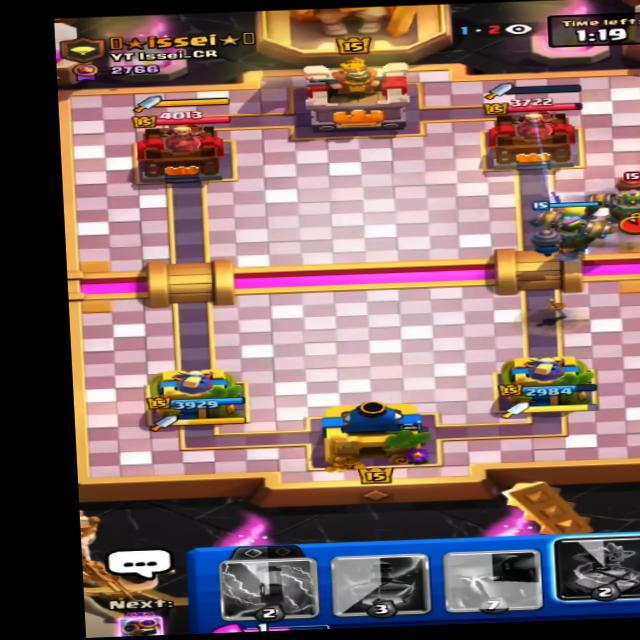goblin-machine: (574, 169, 640, 232)
